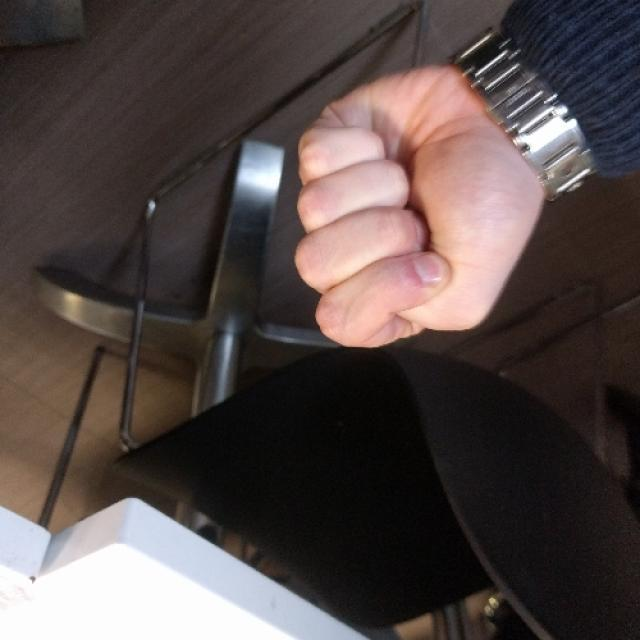fist: (288, 64, 558, 350)
